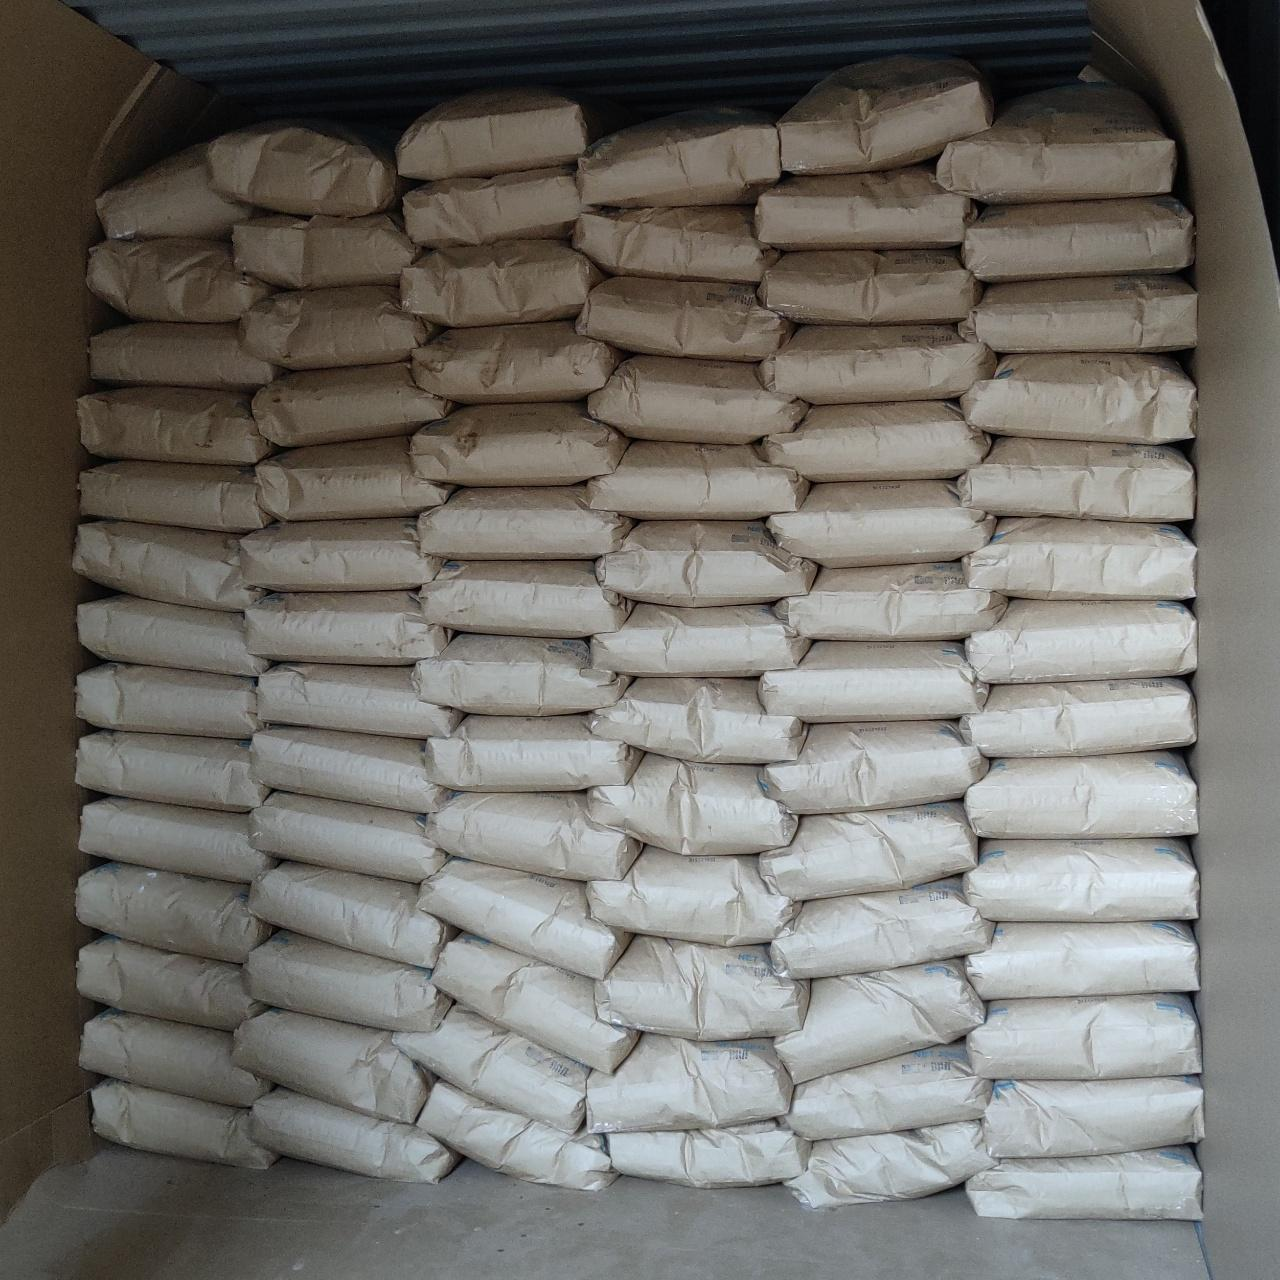sack: (433, 934, 638, 1070), (937, 82, 1175, 198), (778, 56, 990, 172), (778, 960, 982, 1080), (420, 860, 629, 974), (394, 1006, 586, 1128), (598, 937, 806, 1039), (250, 862, 452, 966), (234, 1010, 430, 1118), (772, 878, 990, 974), (588, 754, 796, 855), (416, 1082, 612, 1189), (762, 802, 974, 898), (244, 932, 450, 1030), (782, 1042, 990, 1138), (764, 722, 986, 812), (586, 1034, 790, 1130), (962, 354, 1194, 438), (588, 847, 794, 942), (966, 753, 1196, 836), (770, 481, 992, 566), (578, 113, 779, 206), (966, 600, 1196, 682), (968, 996, 1198, 1078), (250, 1090, 458, 1180), (956, 438, 1192, 518), (964, 518, 1194, 598), (962, 198, 1190, 278), (966, 840, 1198, 918), (428, 792, 638, 878), (79, 864, 270, 958), (760, 326, 994, 402), (207, 121, 395, 216), (411, 402, 628, 484), (590, 356, 806, 438), (592, 678, 802, 762), (598, 522, 813, 604), (399, 88, 590, 181), (962, 680, 1194, 756), (960, 275, 1196, 350), (578, 275, 790, 358), (756, 166, 974, 246), (787, 1122, 992, 1206), (762, 402, 988, 478), (82, 1010, 270, 1102), (762, 642, 983, 720), (776, 564, 1006, 638), (968, 924, 1198, 998), (79, 937, 264, 1028), (983, 1078, 1201, 1156), (411, 322, 622, 402), (402, 240, 602, 324), (588, 442, 806, 518), (966, 1148, 1198, 1218), (254, 362, 450, 445), (250, 794, 442, 878), (252, 726, 444, 810), (74, 522, 260, 608), (760, 250, 980, 322), (91, 1080, 275, 1166), (416, 636, 628, 712), (425, 716, 638, 790), (592, 604, 806, 676), (258, 438, 452, 518), (80, 798, 274, 878), (422, 561, 628, 636), (240, 288, 436, 366), (574, 207, 776, 282), (418, 486, 629, 558), (80, 595, 266, 676), (96, 144, 254, 238), (79, 731, 268, 808), (79, 388, 274, 462), (88, 240, 272, 318), (246, 592, 448, 662), (241, 518, 440, 590), (404, 168, 584, 246), (260, 663, 458, 734), (234, 212, 420, 286), (76, 663, 260, 736), (82, 462, 270, 532), (90, 322, 280, 390), (608, 1122, 806, 1186)
